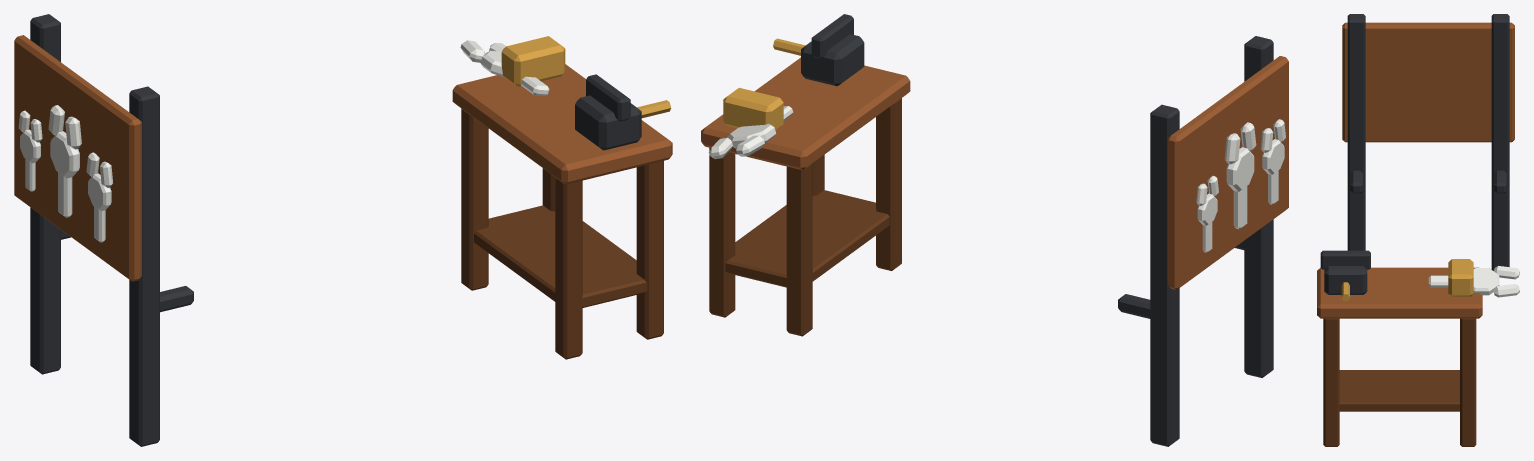
Rendered from MenderDressA1.obj.
3 renders of one model, left to right at view 1: azimuth 30°, elevation 25°; view 2: azimuth 150°, elevation 25°; view 3: azimuth 270°, elevation 25°, orthographic. The views are drawn at different scales.
Parts seen in each view (by area): view 1: MenderDressA1; view 2: MenderDressA1; view 3: MenderDressA1.
Boxes of the visible parts, left/top/right/bottom form: MenderDressA1: left=14, top=14, right=672, bottom=446; MenderDressA1: left=701, top=14, right=1288, bottom=446; MenderDressA1: left=1317, top=14, right=1519, bottom=446.
Size of the model in its own units: 1.29 by 0.78 by 0.564.
